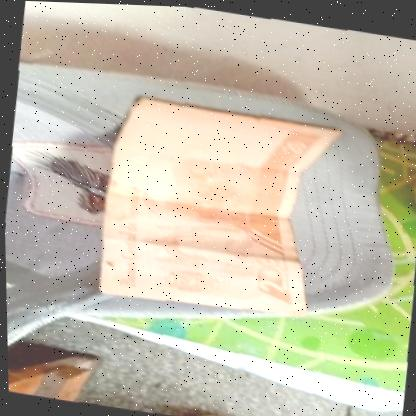vef_back: (91, 90, 344, 325)
